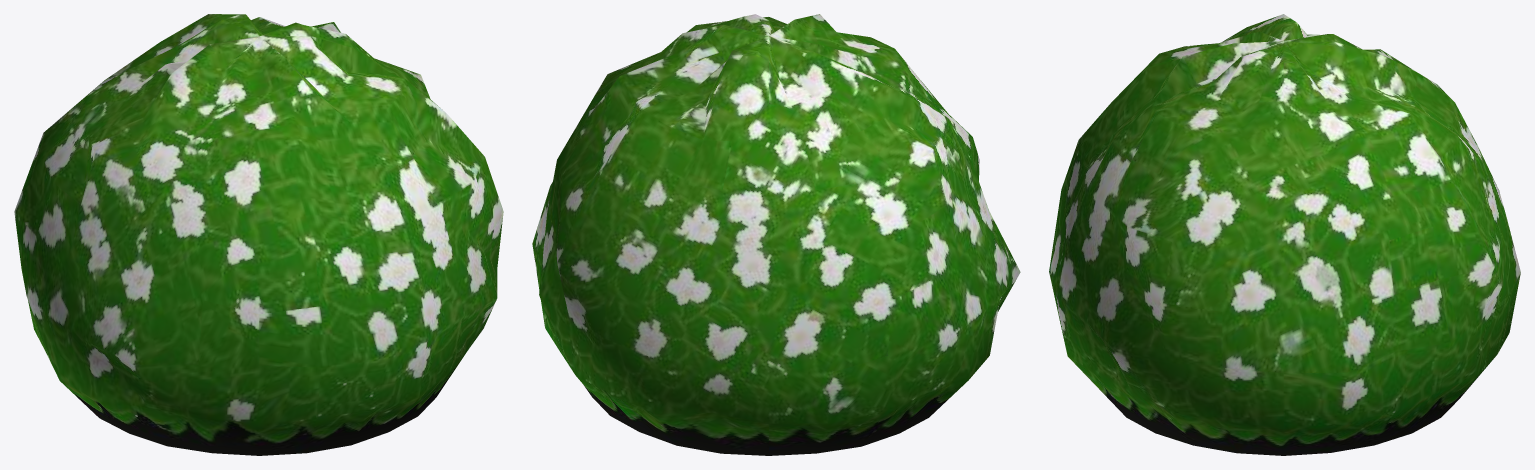
File: bush_flower_1.glb
The picture shows the model from 3 angles, left to right: view 1: azimuth 30°, elevation 25°; view 2: azimuth 150°, elevation 25°; view 3: azimuth 270°, elevation 25°; orthographic projection.
Visible parts, largest first — view 1: ЦІЛЬ; view 2: ЦІЛЬ; view 3: ЦІЛЬ.
Part boxes in pixels (box(x1,y1,x2,y2)): ЦІЛЬ: box(14, 14, 503, 455); ЦІЛЬ: box(532, 14, 1020, 455); ЦІЛЬ: box(1049, 14, 1520, 455).
Bounding box in the file's own units: 0.6076 × 0.5 × 0.6054.
1 material, 1 textured.
